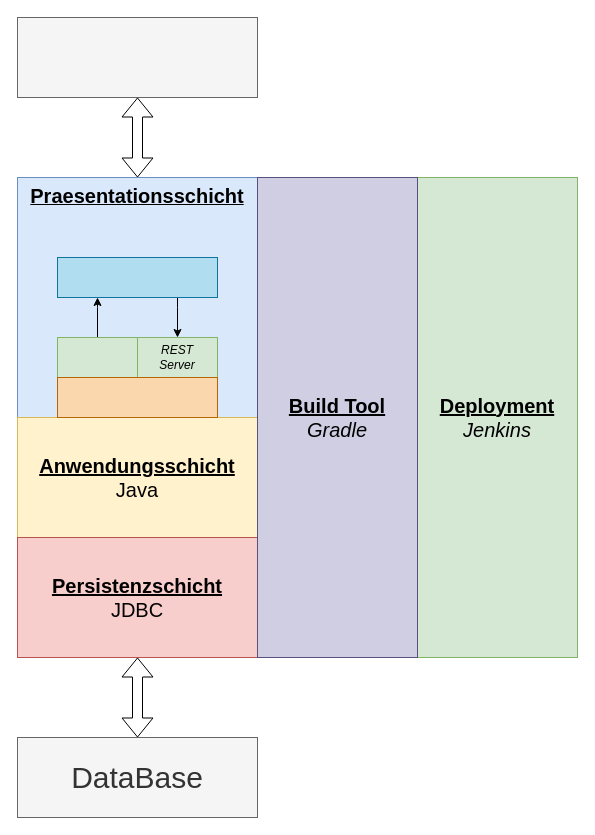
The diagram is 595 pixels wide and 835 high, and some of its shapes have lost their labels. The centre of each missing label's shape, as x and y in pixels:
"HTTP Server" belongs at [97,357].
"Spring Web" belongs at [137,397].
"User" belongs at [137,57].
"Web-UI Svelte" belongs at [137,277].
